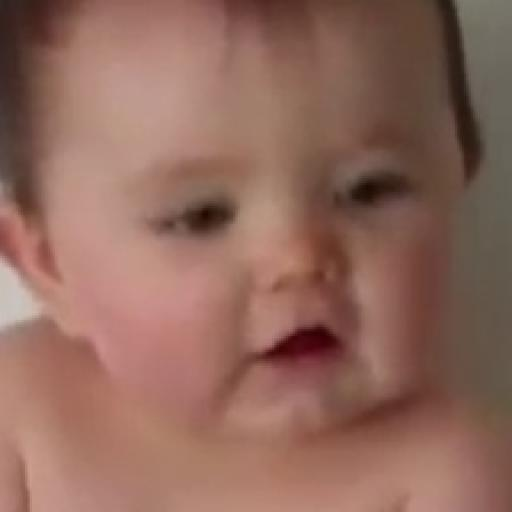Autism: (35, 16, 484, 444)
